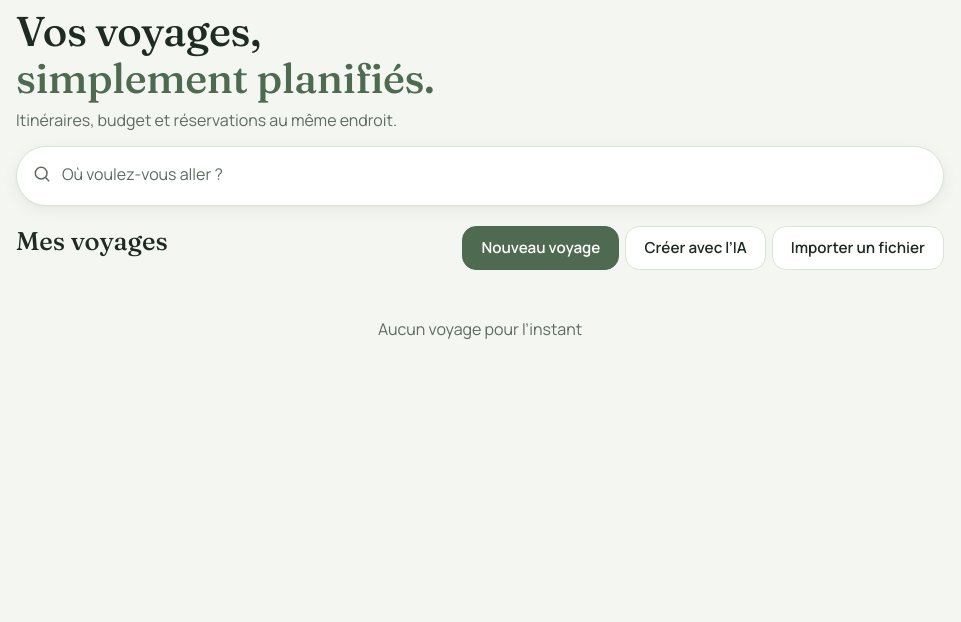
TripsPage — dates liées › le retour se remplit avec le départ
Click the button "Nouveau voyage" at (541, 248), box [462,226,619,270]
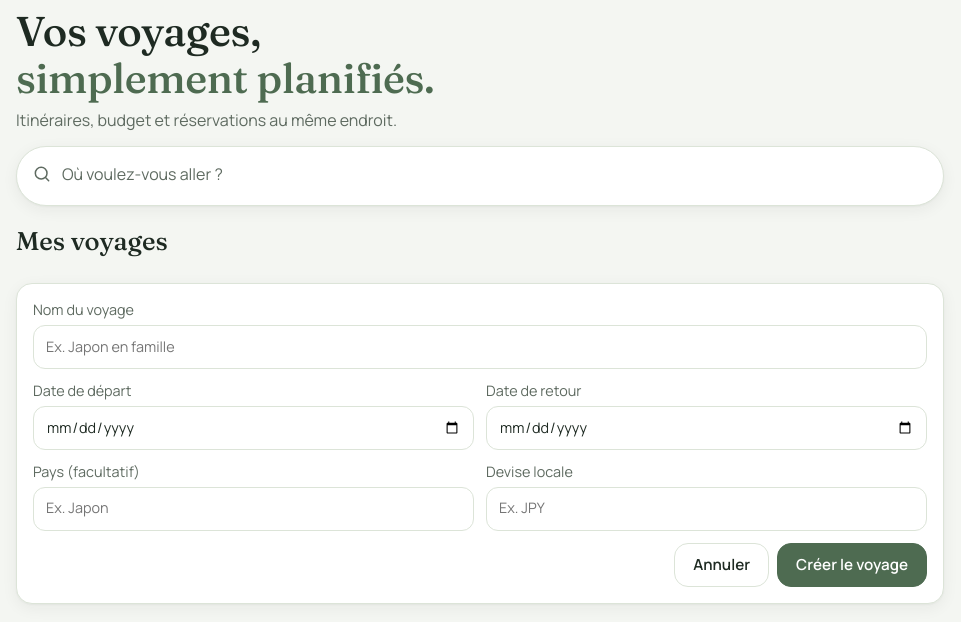
Type "2026-12-03" into the date field labelled "Date de départ" at (254, 428), box [33,406,474,450]
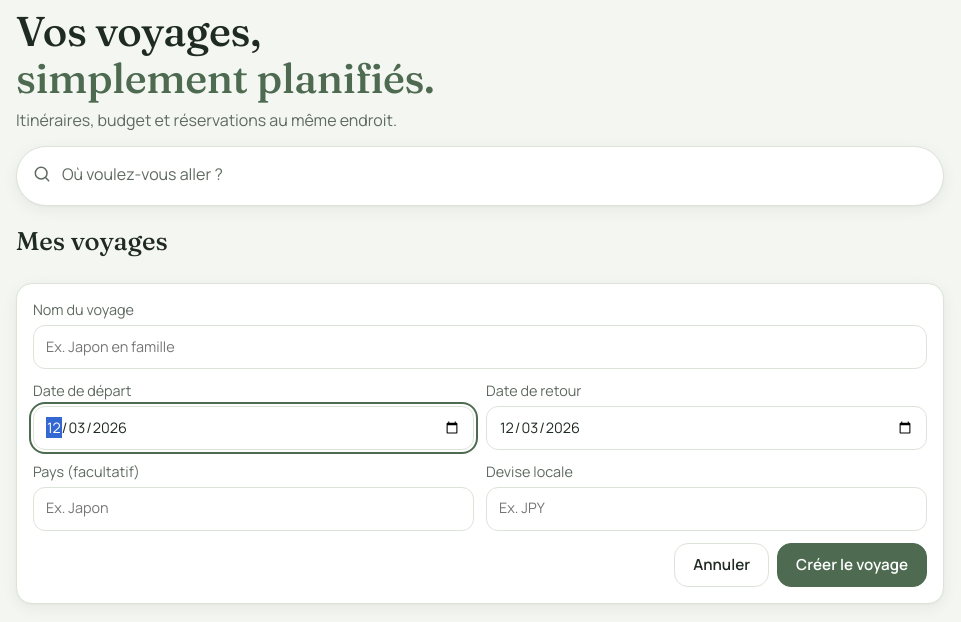
Check: the date field labelled "Date de retour" holds "2026-12-03", box [486,406,927,450]
